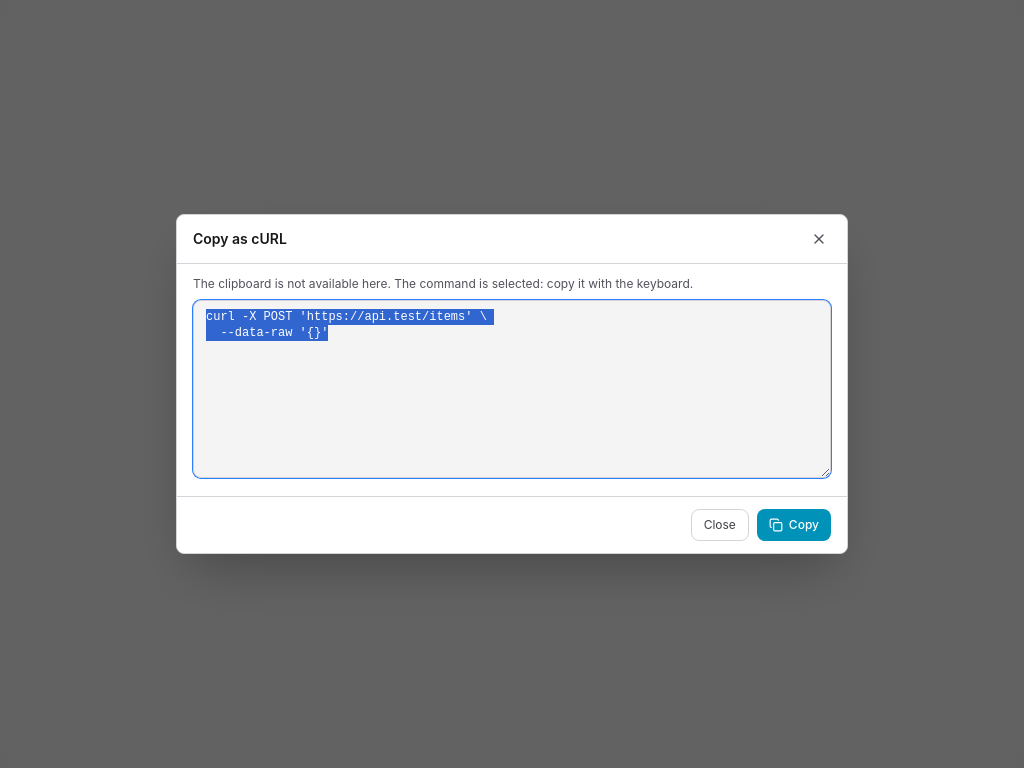
Test: CurlCommandDialog › shows the command selected and copies it on request
Later steps or results of the test are not shown.
Click the button "Copy" at point(794, 525), box [757, 509, 831, 541]
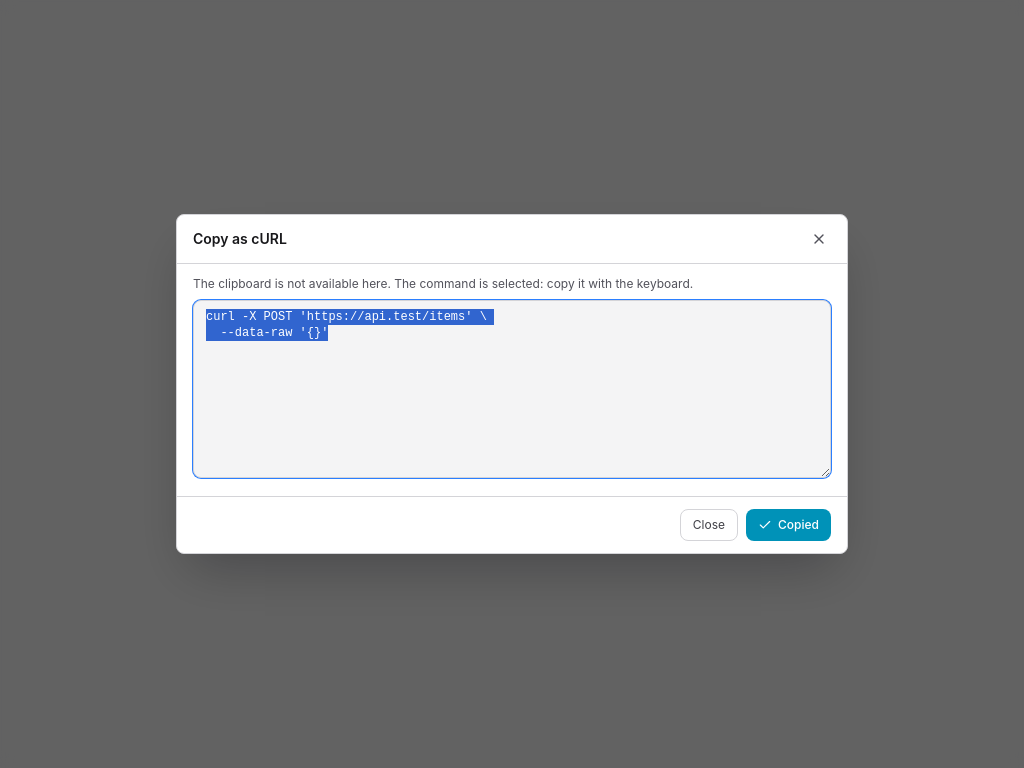
expect the button "Copied" is shown: met, box [746, 509, 831, 541]
